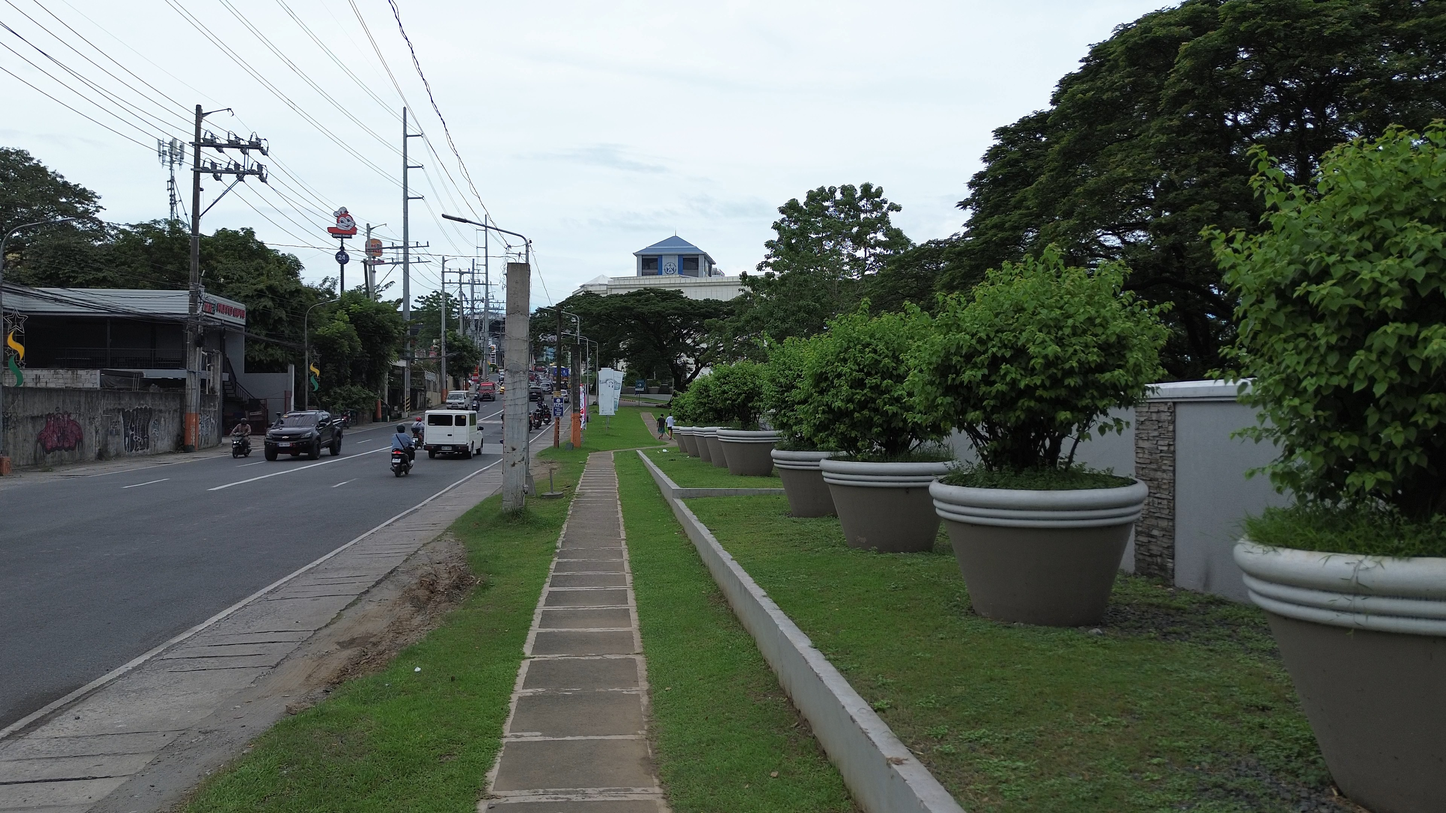motorcycle: (390, 449, 413, 477), (232, 435, 251, 458)
vehicle: (264, 410, 342, 460), (422, 410, 482, 458), (446, 390, 470, 409), (477, 382, 498, 400)
